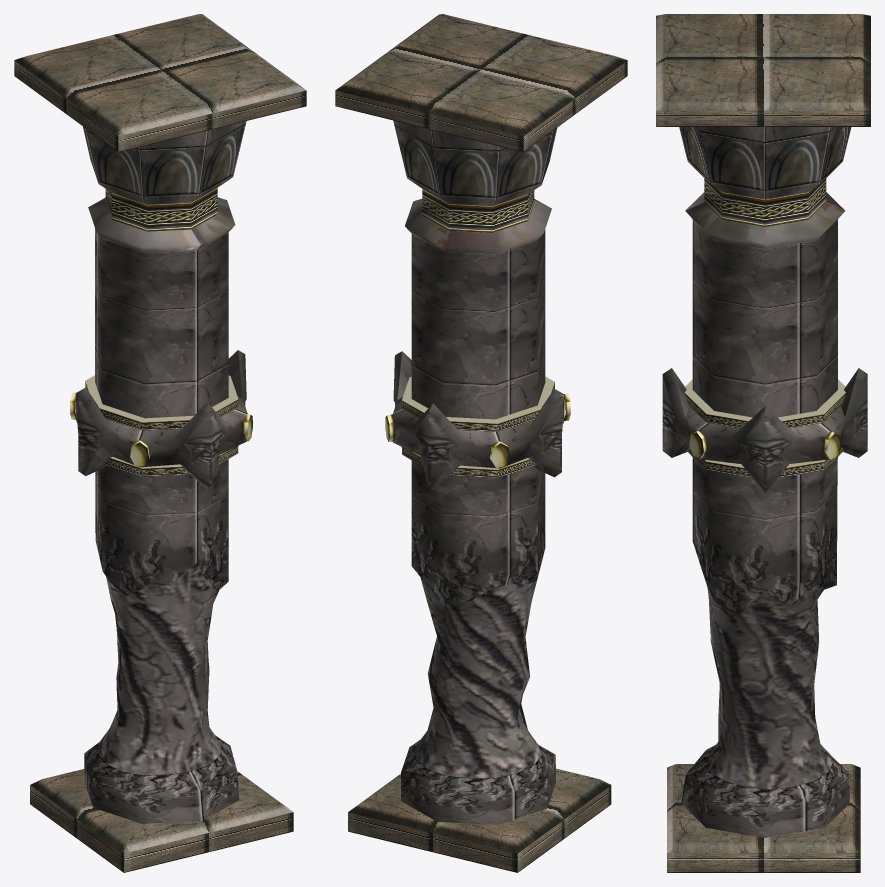
The model's file is INST_SM_COLUMNA.fbx.
3 views of the same model, side by side, from view 1: azimuth 30°, elevation 25°; view 2: azimuth 150°, elevation 25°; view 3: azimuth 270°, elevation 25° (orthographic). The views are drawn at different scales.
Visible parts, largest first — view 1: INST_SM_COLUMNA; view 2: INST_SM_COLUMNA; view 3: INST_SM_COLUMNA.
Part boxes in pixels (x1=…): INST_SM_COLUMNA: x1=14, y1=14, x2=306, y2=872; INST_SM_COLUMNA: x1=335, y1=14, x2=627, y2=872; INST_SM_COLUMNA: x1=656, y1=14, x2=870, y2=872.
Bounding box in the file's own units: 37329 × 141827 × 35754.
9 materials, 9 textured.
